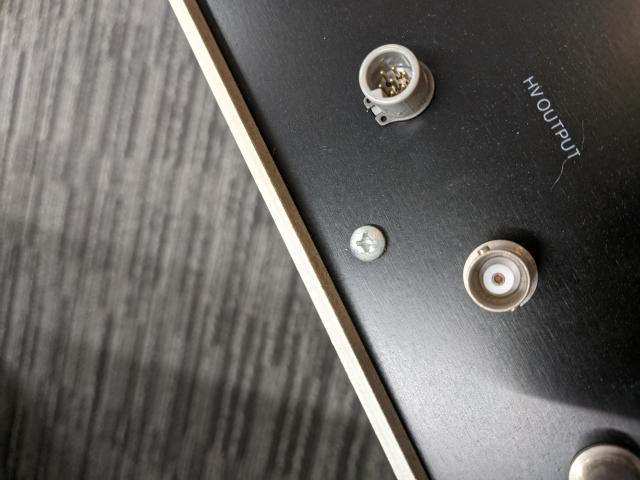CRS: (349, 225, 387, 263)
